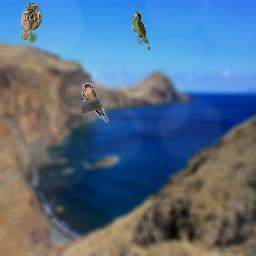Cuckoo: (132, 11, 150, 51)
Sparrow: (21, 3, 42, 43)
Swallow: (82, 83, 109, 123)
